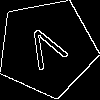V: (21, 23, 74, 80)
